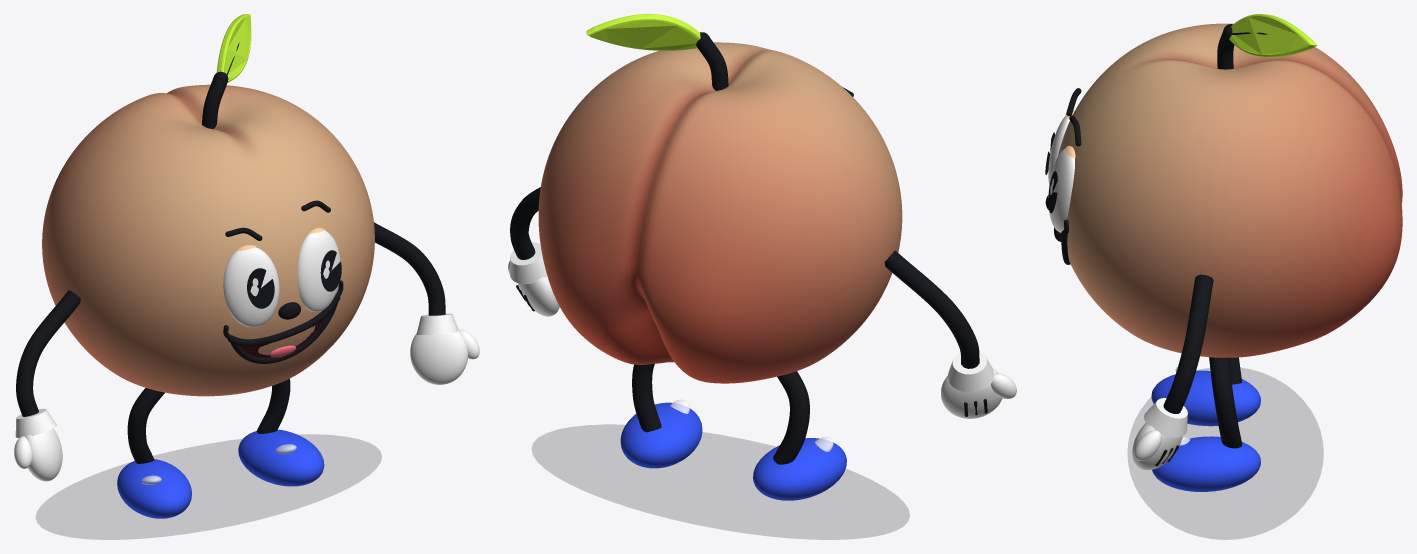
The model's file is durazno-popowash-cara-4.glb.
3 views of the same model, side by side, from view 1: azimuth 30°, elevation 25°; view 2: azimuth 150°, elevation 25°; view 3: azimuth 270°, elevation 25° (orthographic). The views are drawn at different scales.
Bounding box in the file's own units: 3.18 × 2.85 × 2.
